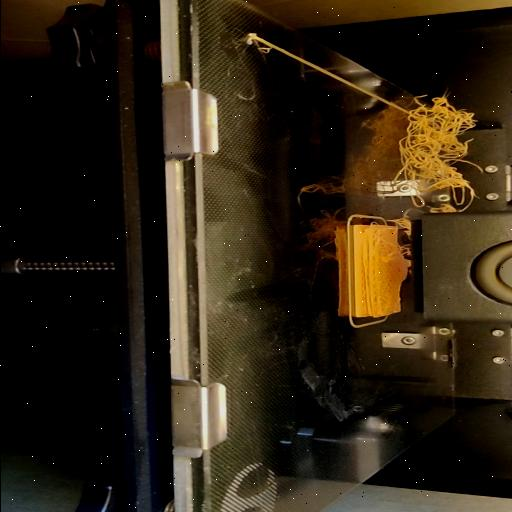spaghetti: (396, 94, 482, 212), (391, 214, 415, 250)
